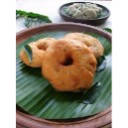vada: (43, 39, 95, 90), (21, 38, 59, 67)
